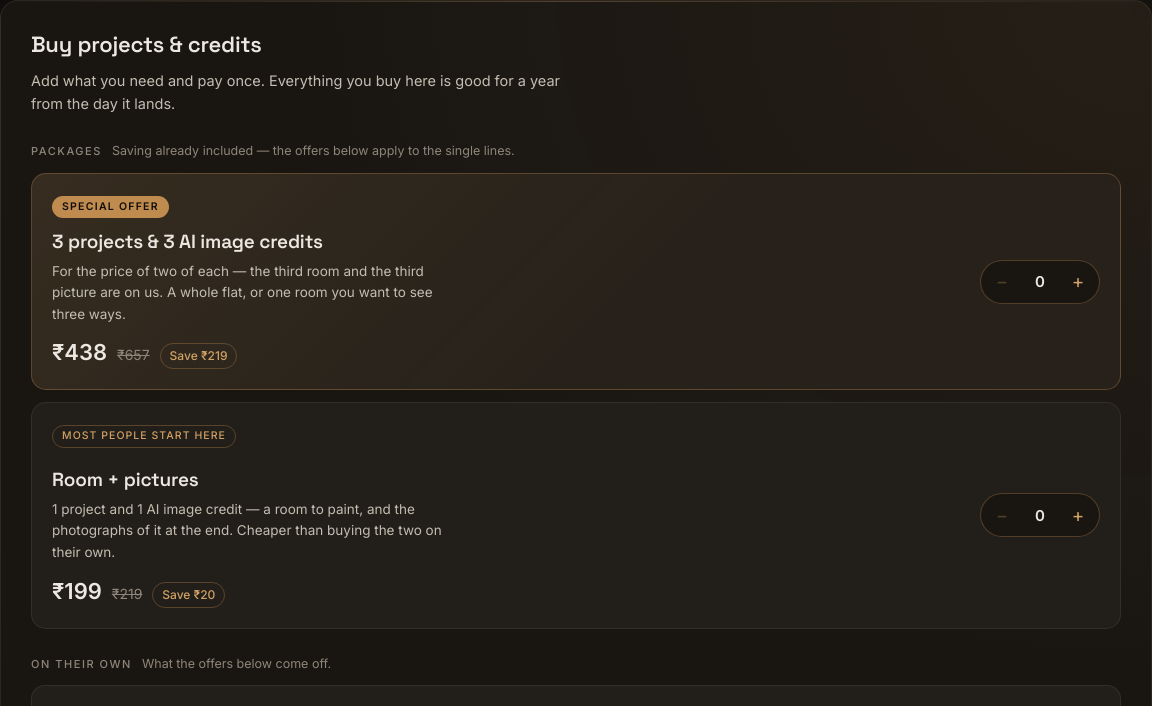
Test: CreditsCart › prices the special offer from the server and unpacks what it hands over
This screenshot has width=1152, height=706.
Click the button named "One more Special offer": (1078, 282) left=1057, top=261, right=1099, bottom=303
(page scrolled)
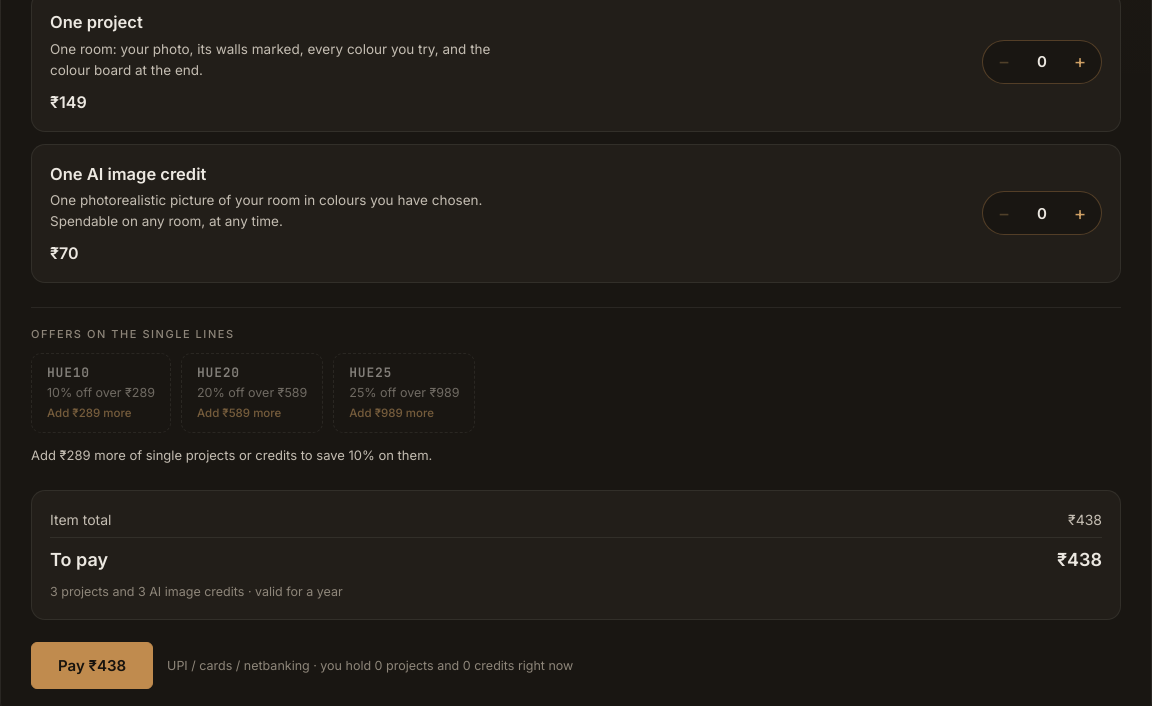
Result: the text "3 projects and 3 AI image credits · valid for a year" is shown at left=50, top=584, right=343, bottom=599
